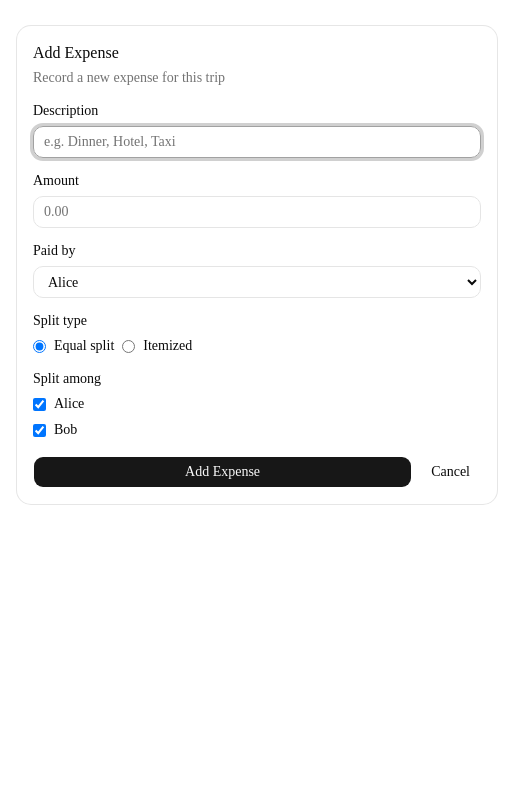
Test: AddExpenseFormView › itemized split › shows item amount invalid error when a line item has zero amount
This screenshot has width=515, height=804.
Type "Dinner" into the field with placeholder "e.g. Dinner, Hotel, Taxi".
click(257, 142); type("Dinner")  # box [33,126,481,158]
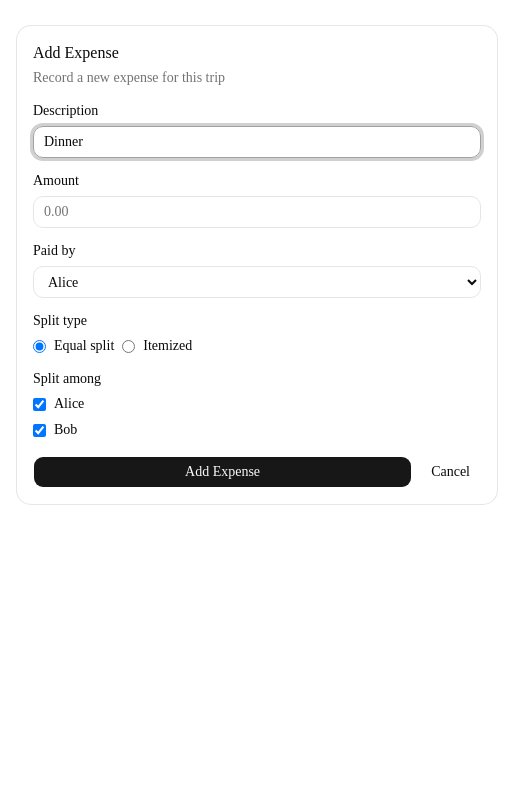
Type "10.00" into the field with placeholder "0.00".
click(257, 212); type("10.00")  # box [33,196,481,228]
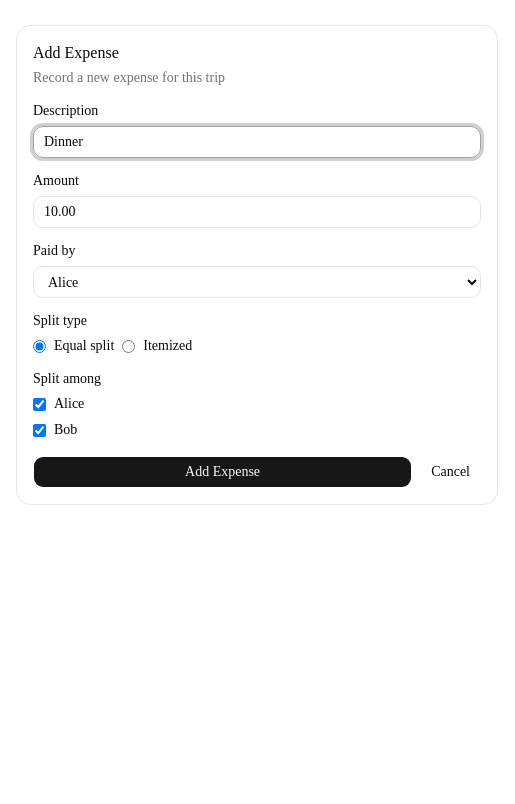
Click the radio button labelled "Itemized".
click(129, 346)  # box [122,340,135,352]
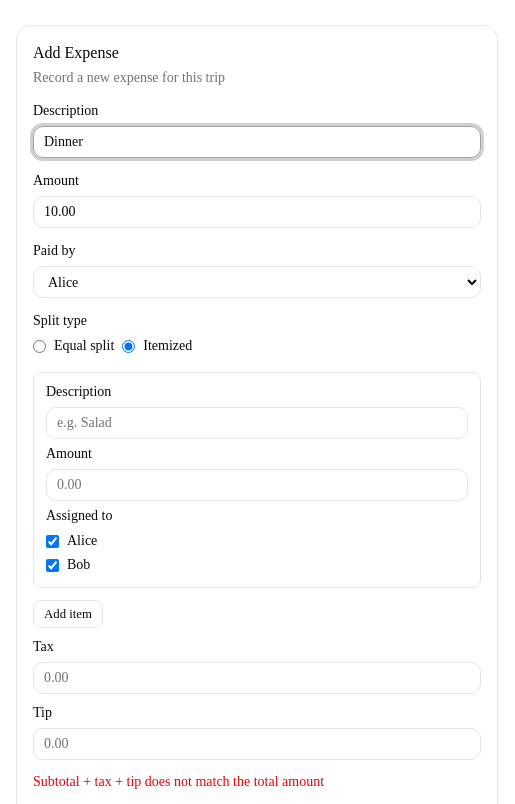
Set item description but leave amount empty (parses as 0)
Type "Salad" into the 2nd field labelled "Description".
click(257, 423); type("Salad")  # box [46,407,468,439]
(page scrolled)
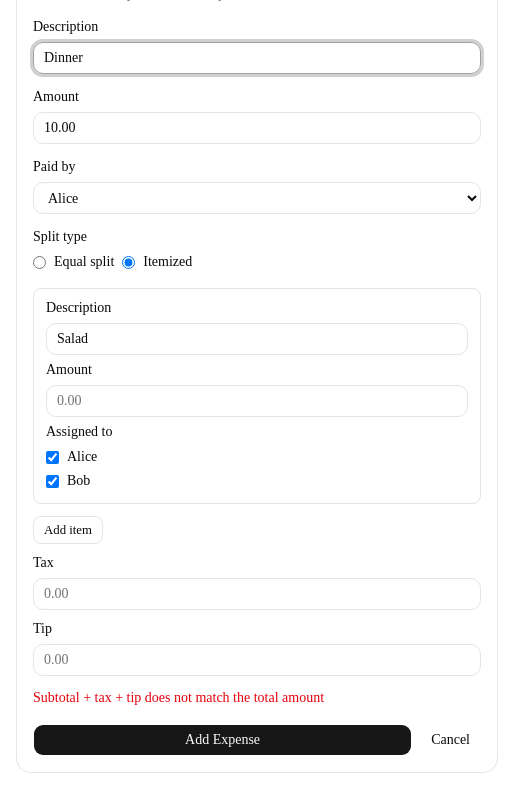
Click the button "Add Expense".
click(223, 740)  # box [33,724,412,756]
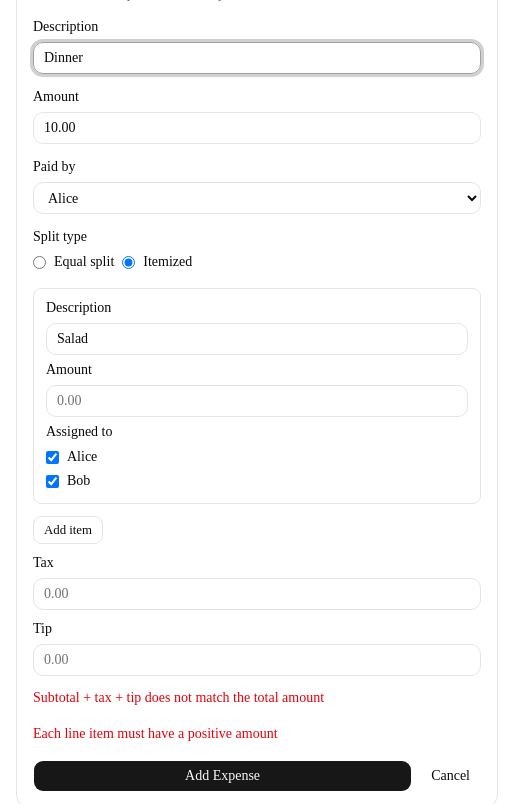
Result: the text "Each line item must have a positive amount" is shown at [33,726,278,741]
